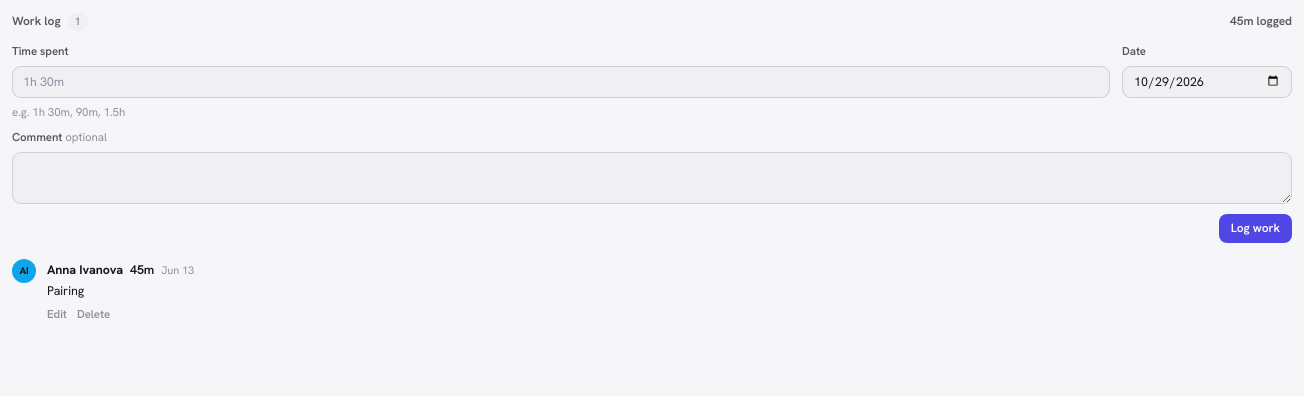
it: the work log section › closes a Delete question on Esc from the Delete that asked, and gives it focus
Click the button with aria-label "Delete 45m logged".
click(94, 314)  # box [73,300,114,328]
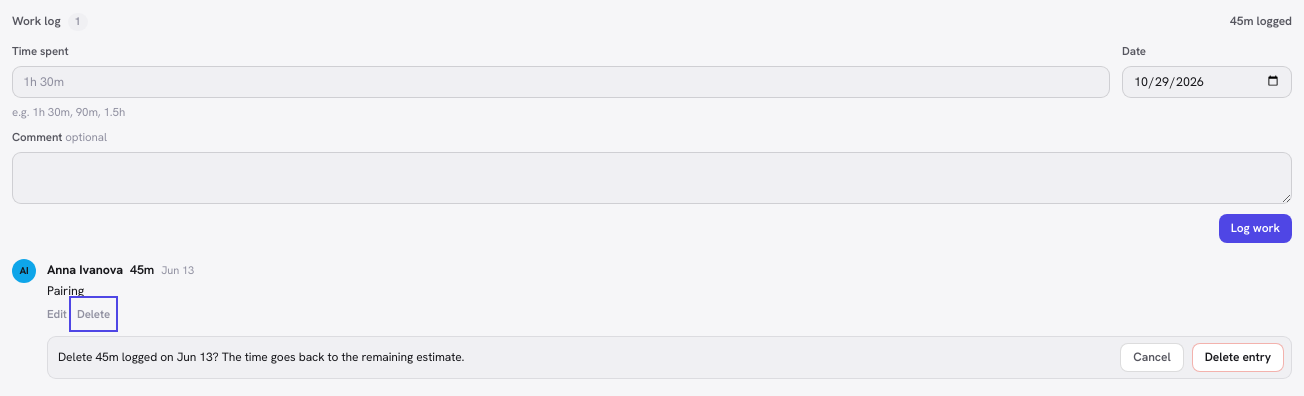
Now the button "Delete entry" is shown, box [1192,343,1284,372]
Press Escape in the button with aria-label "Delete 45m logged", box [73,300,114,328]
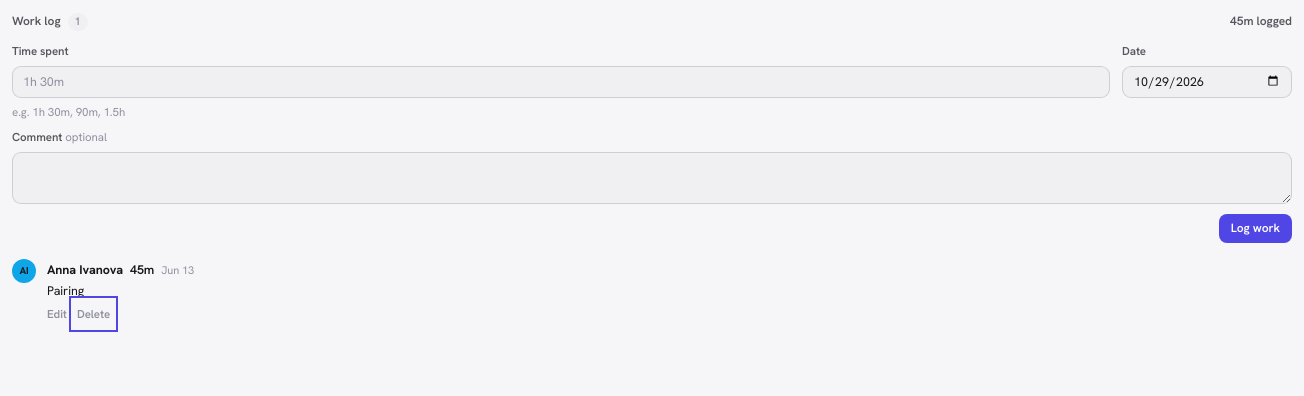
Now the button "Delete entry" is gone
Note: And from inside it, as before.
Click the button with aria-label "Delete 45m logged".
click(94, 314)  # box [73,300,114,328]
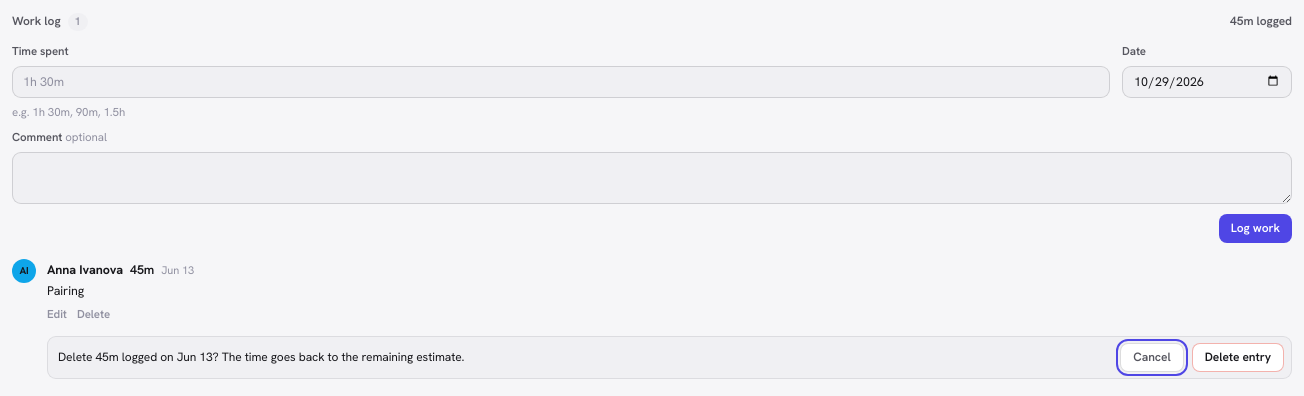
Press Escape in the button "Cancel", box [1120,343,1184,372]
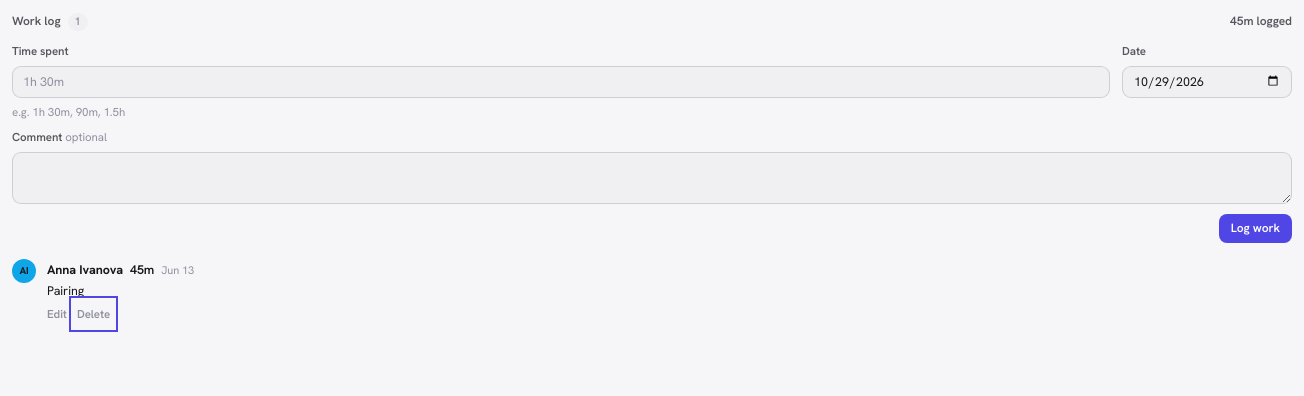
Now the button "Delete entry" is gone
